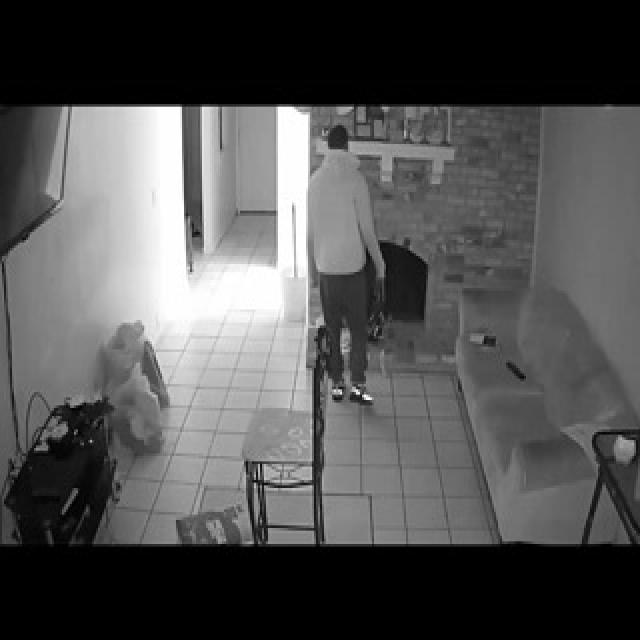thief: (318, 121, 365, 180)
